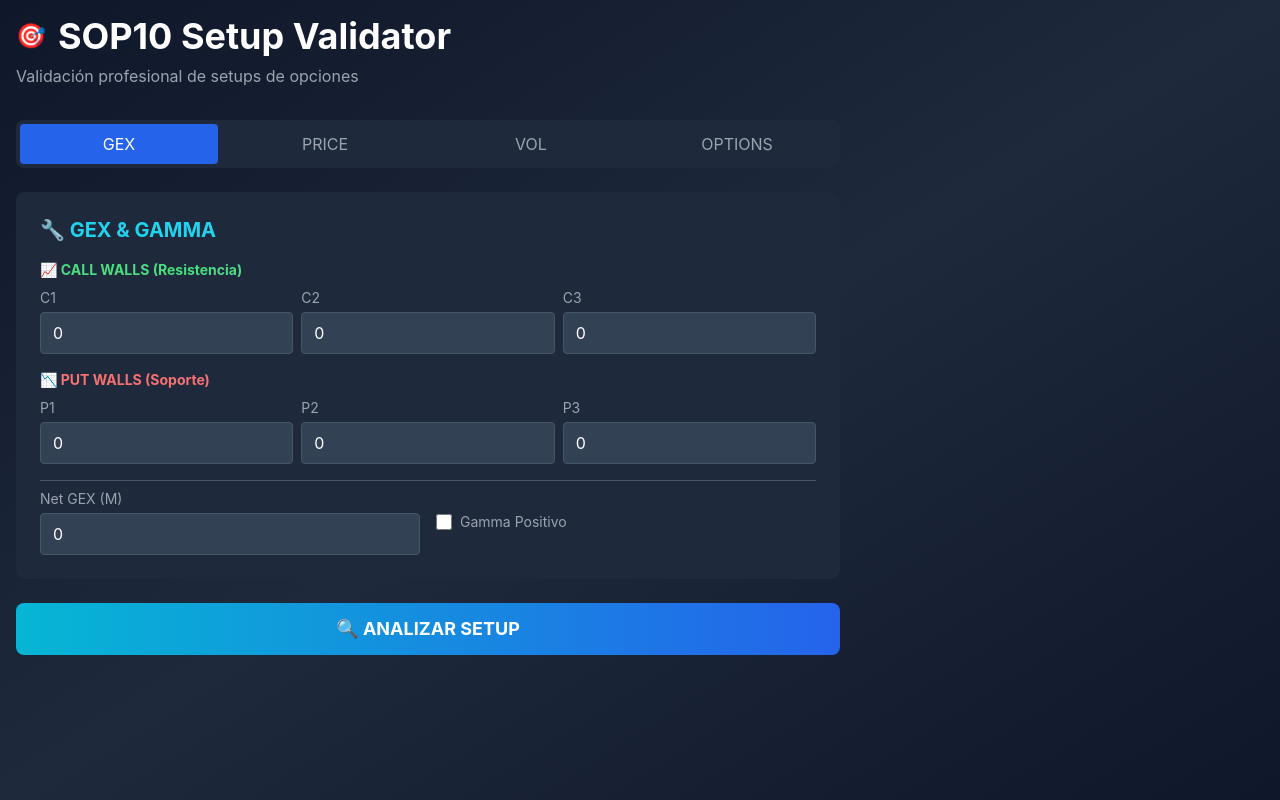
it: SetupValidator Component › Tab Navigation › should switch to Volatility tab when clicked
Click the button "VOL".
click(531, 144)  # box [432,124,630,164]
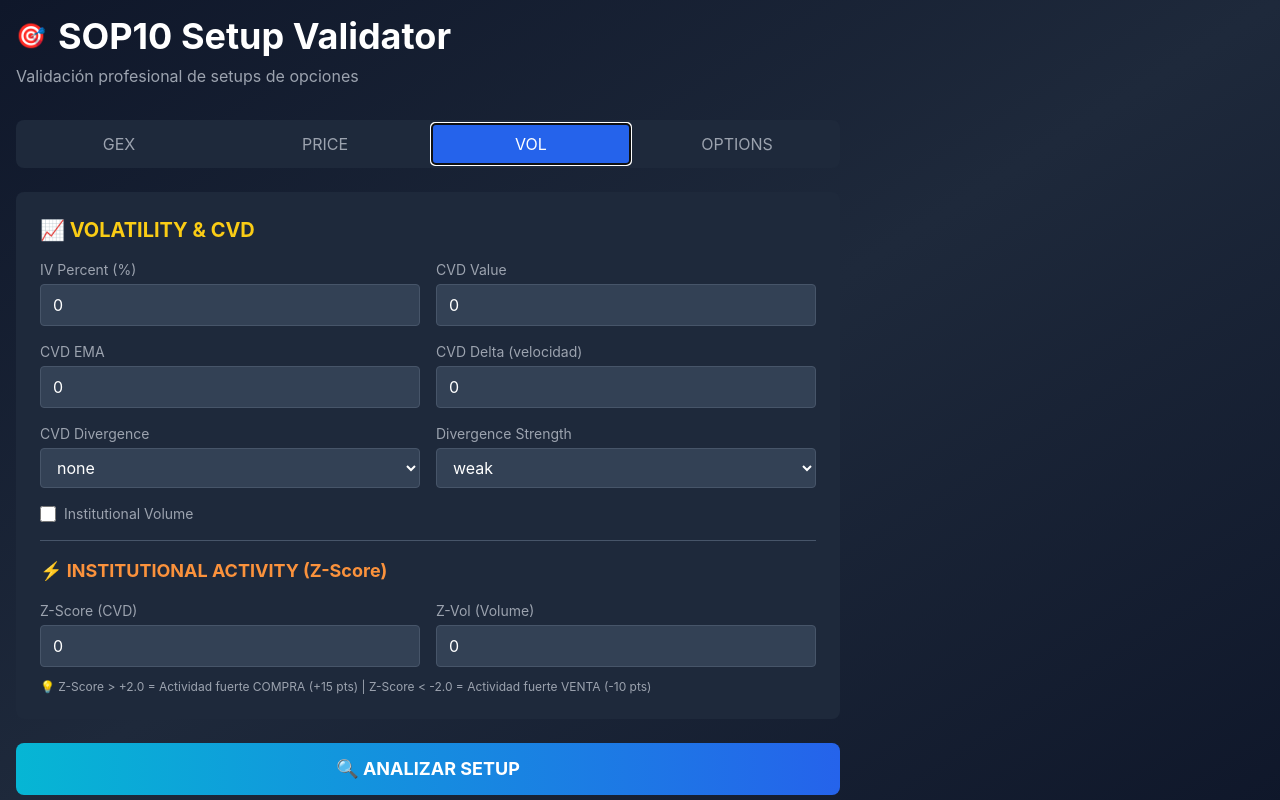
Now the heading "📈 VOLATILITY & CVD" is shown, box [40,218,255,242]
